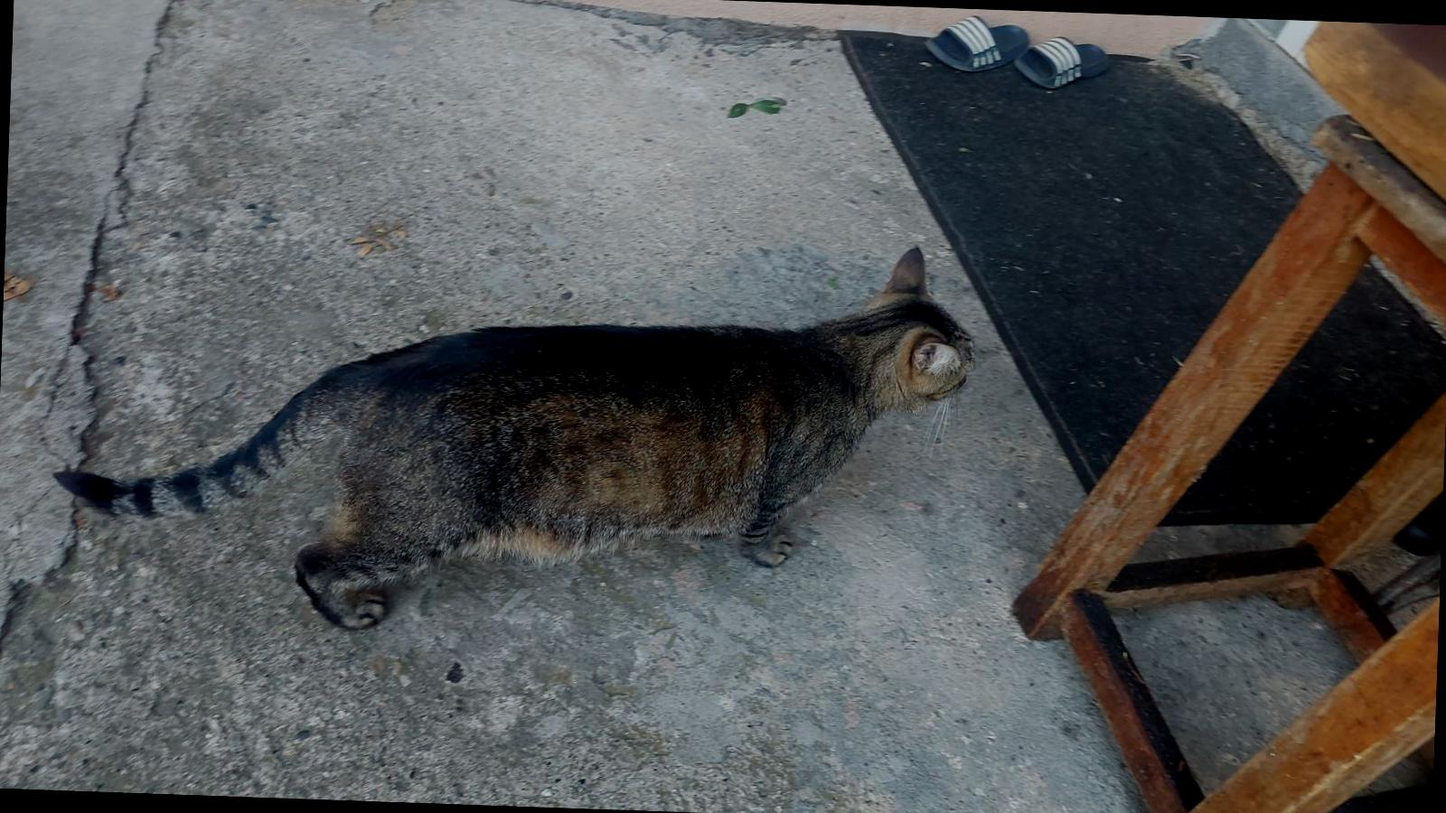macka: (52, 216, 978, 651)
